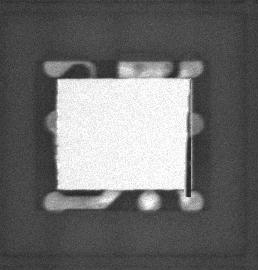DIE_BROKEN: (183, 109, 192, 199)
